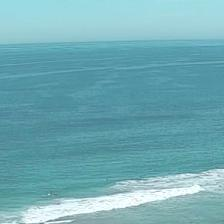surfer: (105, 178, 109, 181), (54, 193, 58, 196), (42, 196, 48, 198), (178, 168, 182, 170), (50, 191, 52, 195)
